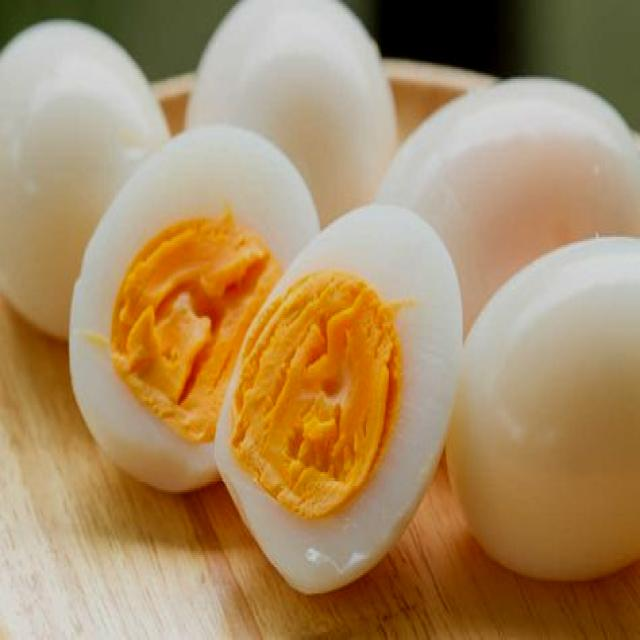telur rebus: (215, 205, 463, 595), (68, 126, 321, 496)
